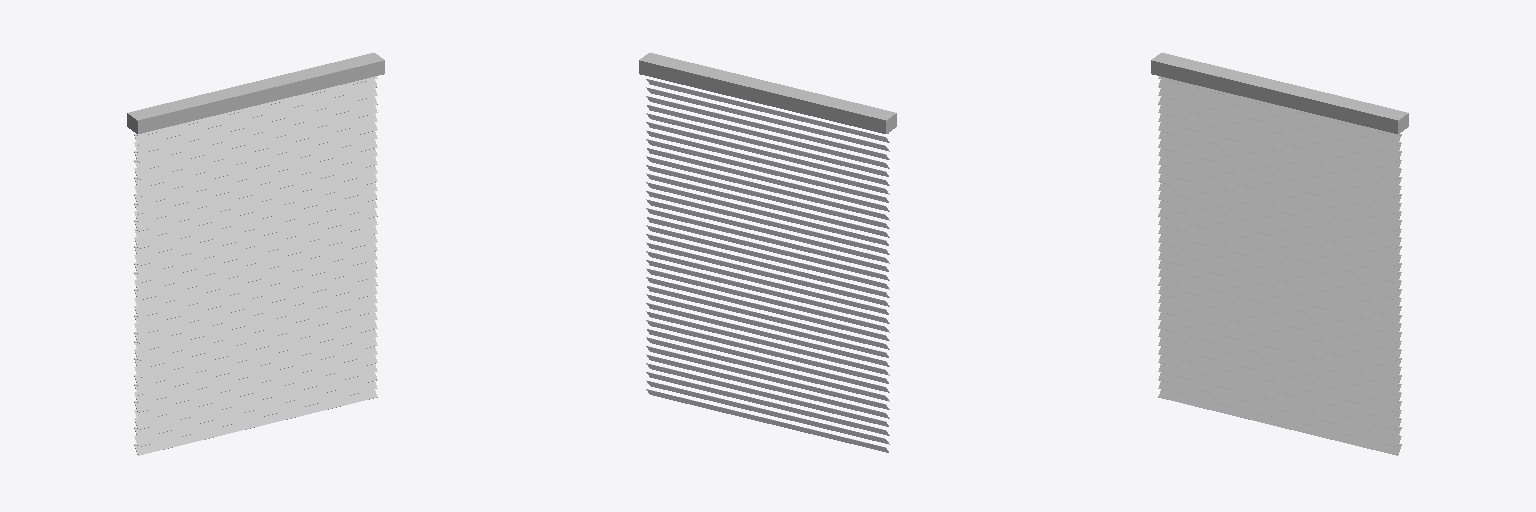
Rendered from Blinds.obj.
The picture shows the model from 3 angles: view 1: azimuth 30°, elevation 25°; view 2: azimuth 150°, elevation 25°; view 3: azimuth 330°, elevation 25°; orthographic projection.
Parts seen in each view (by area): view 1: Blinds.obj; view 2: Blinds.obj; view 3: Blinds.obj.
Part boxes in pixels (x1,y1,x2,y2): Blinds.obj: (127, 53, 384, 455); Blinds.obj: (639, 53, 896, 452); Blinds.obj: (1151, 53, 1408, 455).
Size of the model in its own units: 1.53 by 2 by 0.1132.